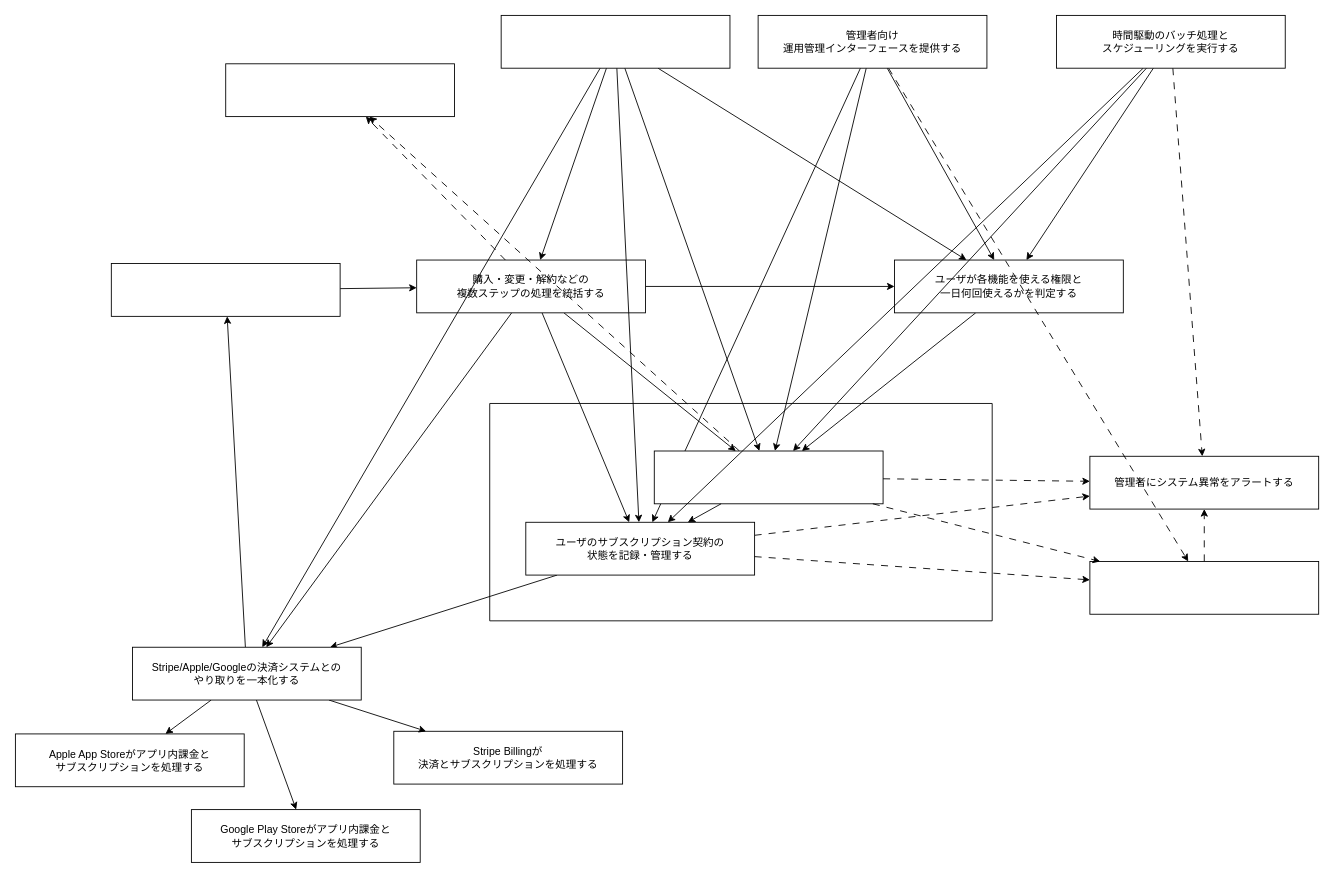
This 1334x878 diagram has some shape labels left out. Here are the shapes that lost their labels. From the top down, the box of each, then its label:
(500, 15, 730, 68): ユーザ向け セルフサービスインターフェースを提供する
(225, 63, 455, 117): ユーザにビジネスイベントを通知する
(110, 263, 340, 316): Webhookイベントを受信層から ビジネスロジック層へ配信する
(653, 450, 883, 504): どんなプランがあって、 誰がどのプランに入っているかを管理する
(1089, 561, 1319, 614): エラー時の再試行、監視、ログ記録で システムの安定稼働を保証する
